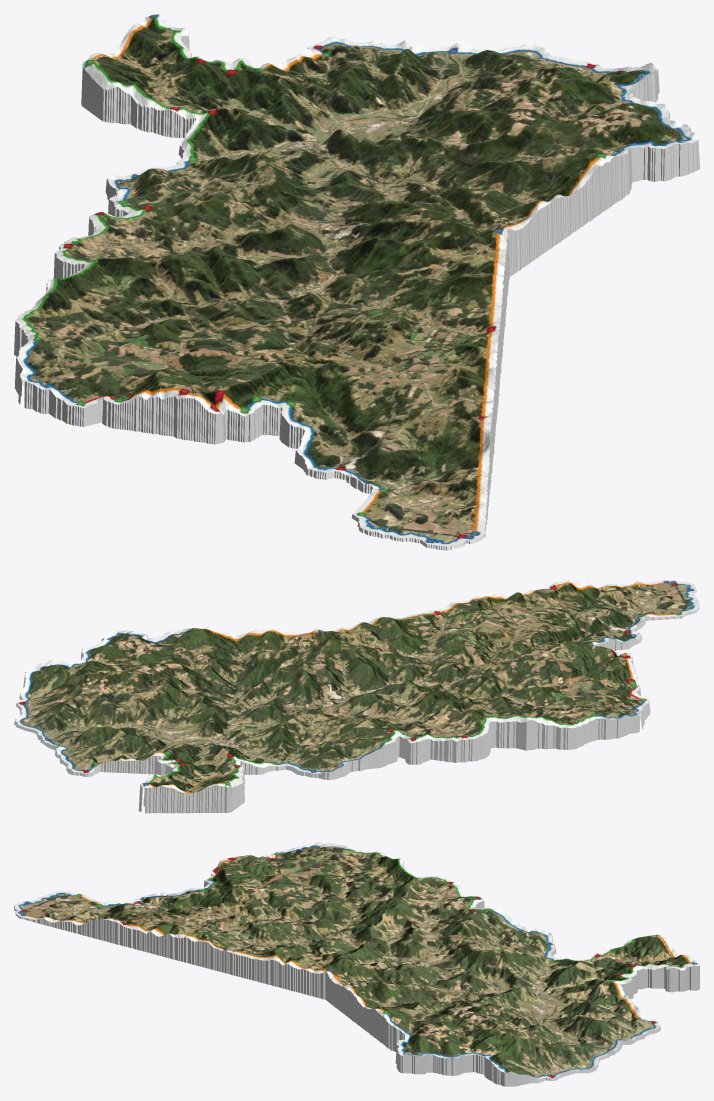
3 views of the same model, one above another, from view 1: azimuth 30°, elevation 25°; view 2: azimuth 150°, elevation 25°; view 3: azimuth 270°, elevation 25° (orthographic). The views are drawn at different scales.
Bounding box in the file's own units: 0.9999 × 0.0633 × 1.26.
Materials: 1 (1 with a texture image).
